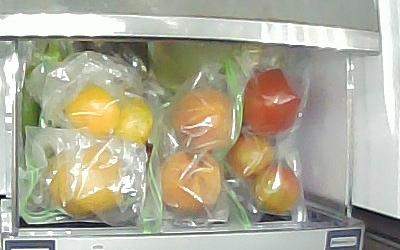peach_vinyl: (168, 85, 233, 150), (158, 149, 222, 212)
pear_vinyl: (49, 145, 124, 215)
tangerine_vinyl: (63, 84, 121, 136), (114, 95, 153, 143)
tomato_vinyl: (241, 66, 302, 137), (247, 161, 299, 214), (227, 132, 274, 179)
